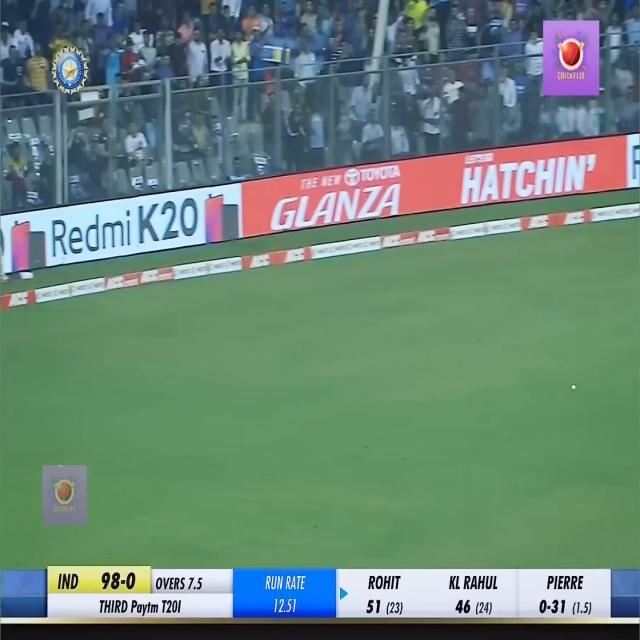fully_visible: (130, 594, 162, 620)
